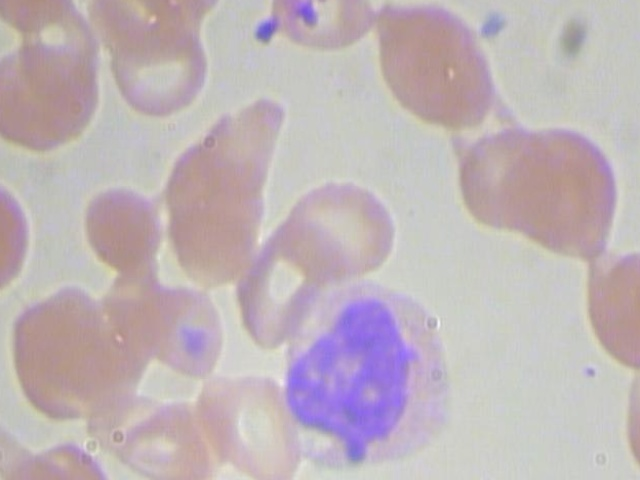Platelets: (474, 2, 512, 45), (249, 13, 282, 49)
RBC: (500, 113, 635, 258), (368, 0, 503, 137), (0, 41, 101, 158), (286, 178, 399, 281), (105, 21, 212, 121), (214, 373, 305, 480), (137, 275, 228, 382), (111, 389, 218, 480), (80, 182, 172, 274), (261, 0, 379, 51)
WBC: (269, 271, 476, 470)
